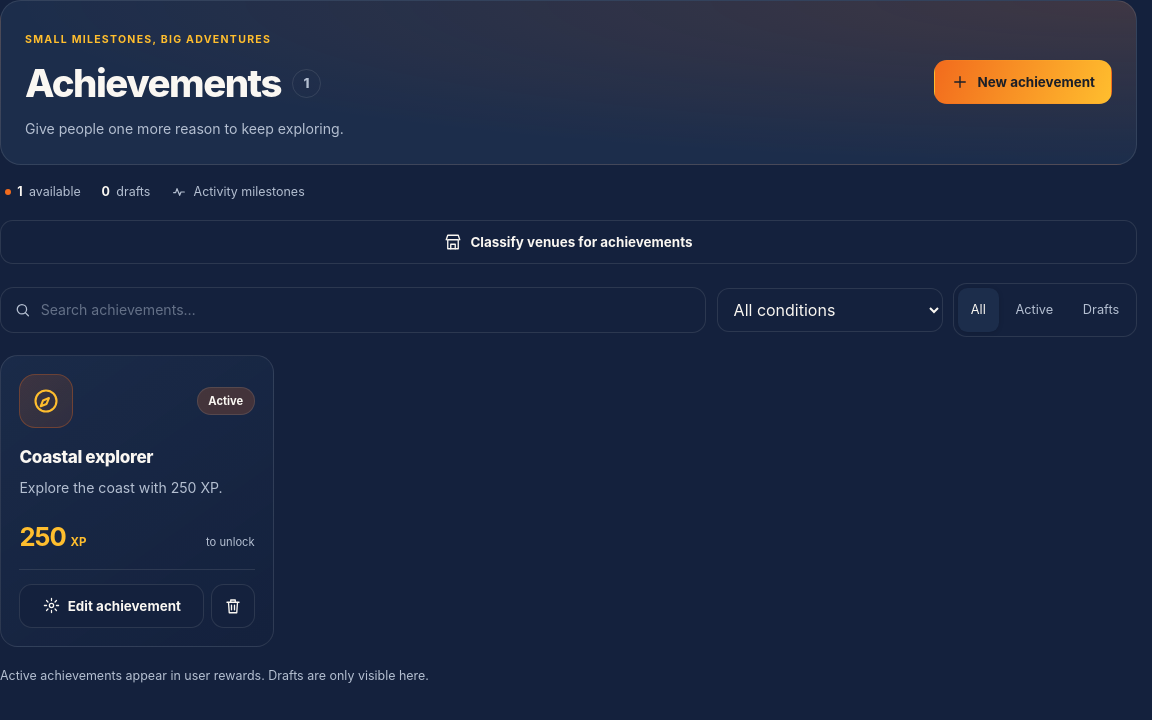
Test: managed achievements › opens an editable preview with the stored rule and both translations
Click the button with aria-label "Edit Coastal explorer" at (112, 606), box [19,584,204,628]
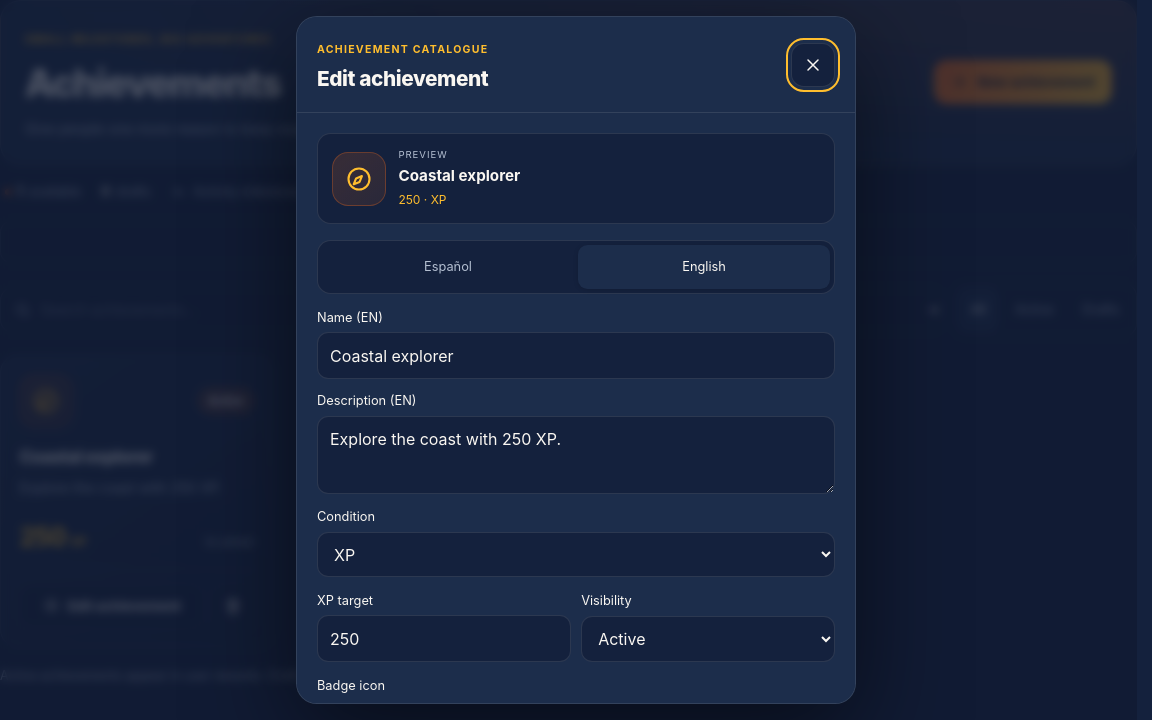
Check: the number field labelled "XP target" holds "250", box [317,615,571,662]
Check: the field labelled "Name (EN)" holds "Coastal explorer", box [317,332,835,379]
Click the button "Español" at (448, 267), box [322,245,574,289]
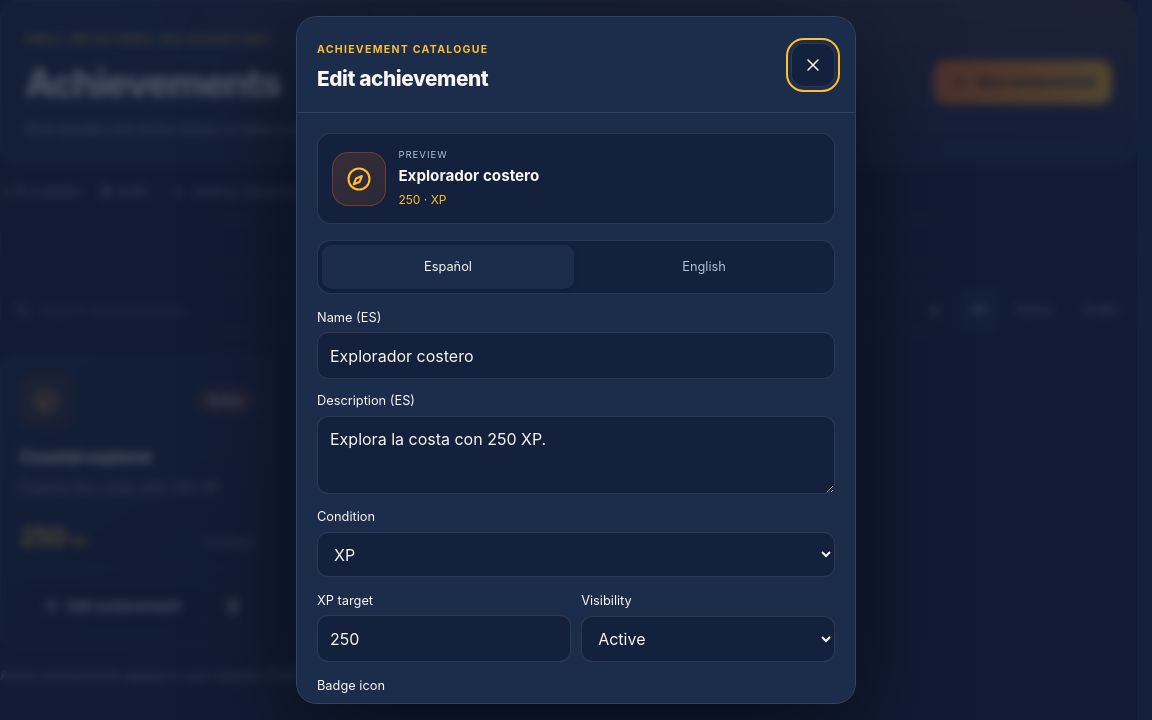
Check: the field labelled "Name (ES)" holds "Explorador costero", box [317,332,835,379]
